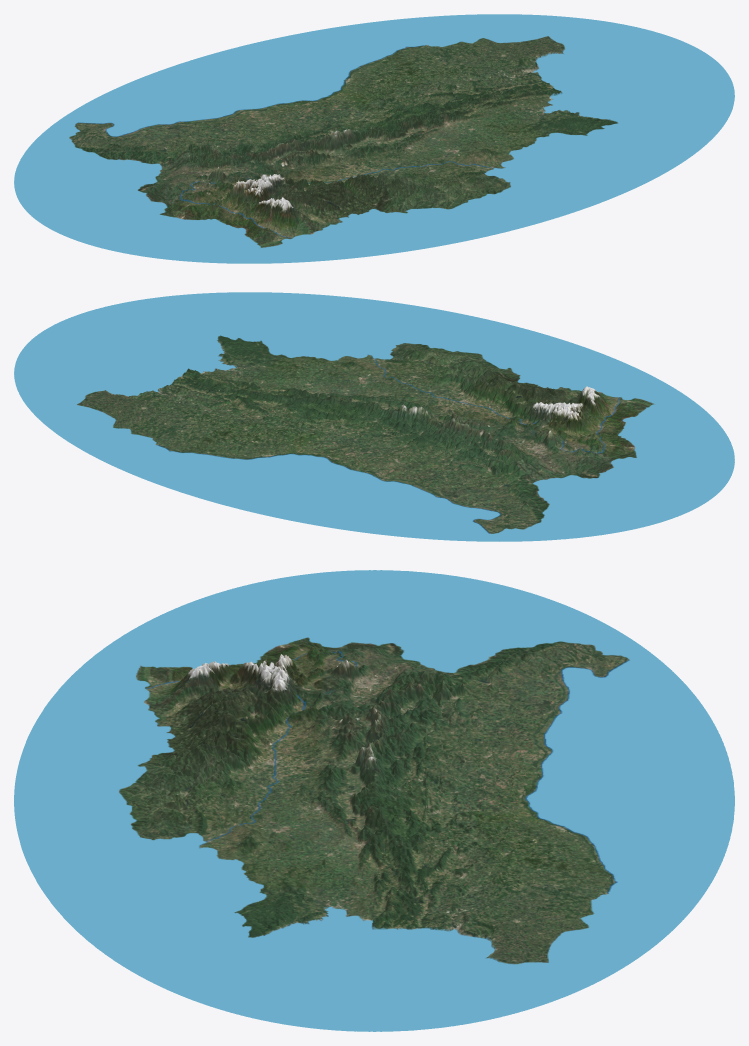
The model's file is BGR-previa-terrain.glb.
The picture shows the model from 3 angles, top to bottom: view 1: azimuth 30°, elevation 25°; view 2: azimuth 150°, elevation 25°; view 3: azimuth 270°, elevation 25°; orthographic projection. The views are drawn at different scales.
Visible parts, largest first — view 1: Bulgária; view 2: Bulgária; view 3: Bulgária.
Part boxes in pixels (x1,y1,x2,y2): Bulgária: (14,14,734,263); Bulgária: (14,292,734,541); Bulgária: (14,570,734,1031).
Size of the model in its own units: 2.47 by 0.0825 by 1.63.
1 material, 1 textured.
